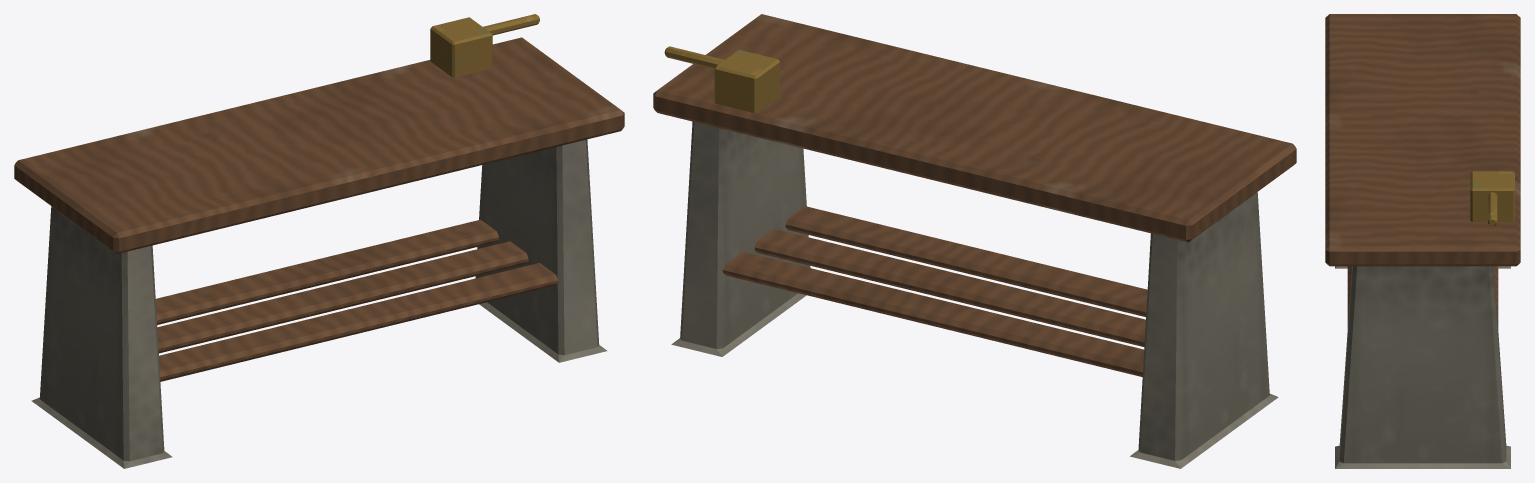
Rendered from WK_FURN_BENCH_A_01.glb.
3 renders of one model, left to right at view 1: azimuth 30°, elevation 25°; view 2: azimuth 150°, elevation 25°; view 3: azimuth 270°, elevation 25°, orthographic. The views are drawn at different scales.
Visible parts, largest first — view 1: WK_FURN_BENCH_A_01; view 2: WK_FURN_BENCH_A_01; view 3: WK_FURN_BENCH_A_01.
Boxes of the visible parts, x1=… form: WK_FURN_BENCH_A_01: x1=14, y1=14, x2=624, y2=468; WK_FURN_BENCH_A_01: x1=653, y1=14, x2=1296, y2=468; WK_FURN_BENCH_A_01: x1=1325, y1=14, x2=1520, y2=468.
Size of the model in its own units: 2 by 1.03 by 0.7.
3 materials, 3 textured.
